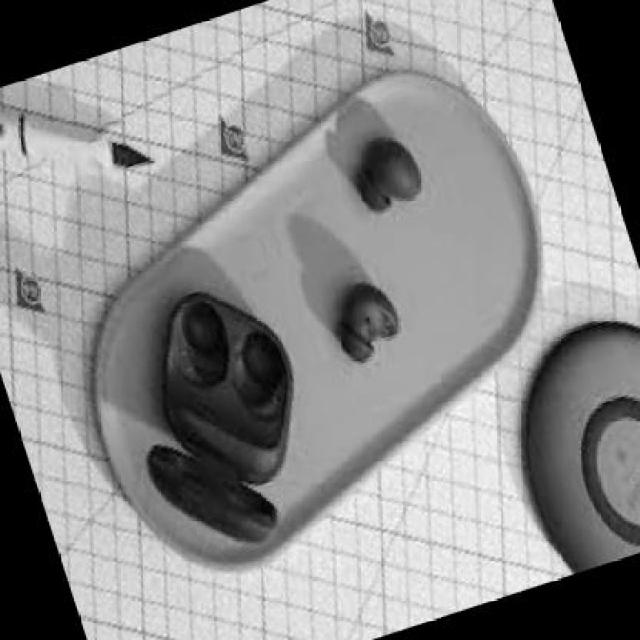earphone: (143, 101, 468, 578)
